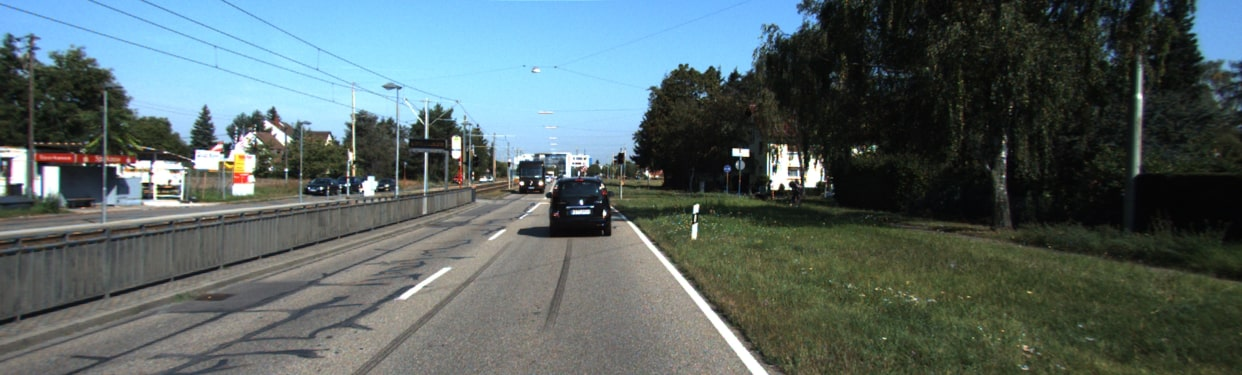car: (541, 174, 614, 236), (516, 156, 547, 194)
